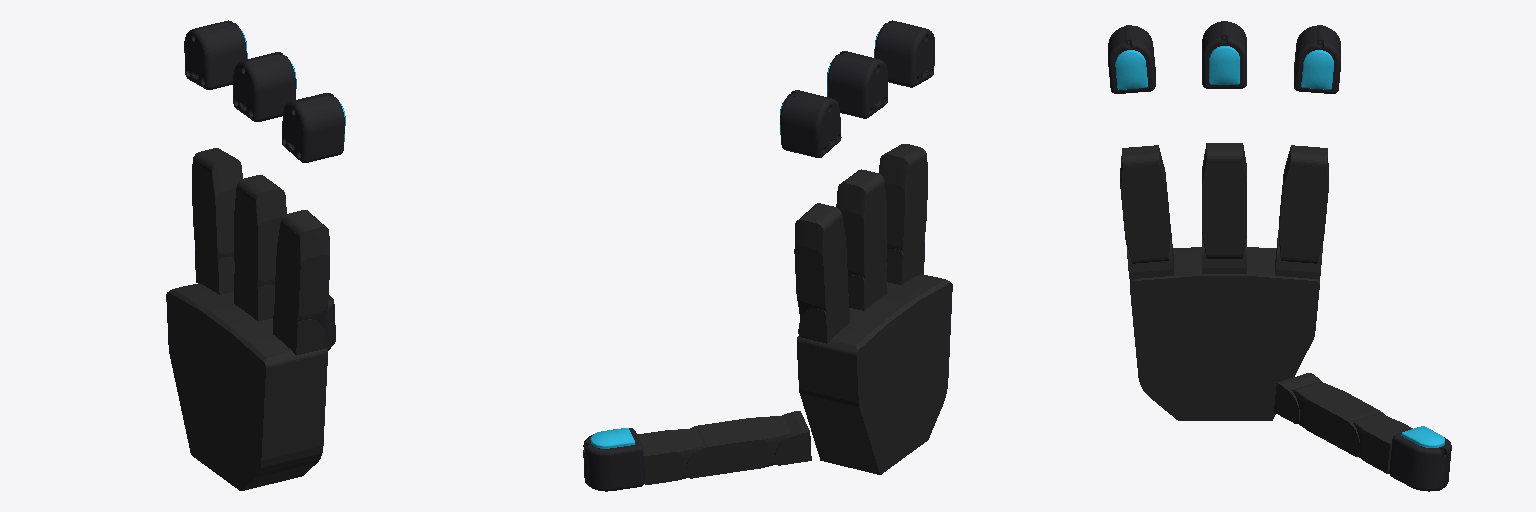
robot.urdf — allegro_right_digit_official_geometry:
<robot name="allegro_right_digit_official_geometry">







  <link name="base_link">
    <visual>
      <geometry>
        <mesh filename="meshes/allegro/base_link.obj" />
      </geometry>
      <origin rpy="0 0 0" xyz="0 0 0 " />
      <material name="black">
        <color rgba="0.2 0.2 0.2 1" />
      </material>
    </visual>
    <inertial>
      <origin xyz="0 0 0.0475" rpy="0 0 0" />
      <mass value="0.4154" />
      <inertia ixx="1e-4" ixy="0.0" ixz="0.0" iyy="1e-4" iyz="0.0" izz="1e-4" />
    </inertial>
  <collision><origin rpy="0 0 0" xyz="0 0 0 " />
      <geometry><mesh filename="collision_baselines/envelope_base_link.obj" /></geometry></collision></link>




  <link name="link_0.0">
    <visual>
      <geometry>
        <mesh filename="meshes/allegro/link_0.0.obj" />
      </geometry>
      <material name="black" />
    </visual>
    <inertial>
      <mass value="0.0119" />
      <origin xyz="0 0 0" rpy="0 0 0" />
      <inertia ixx="1.01666658333e-06" ixy="0.0" ixz="0.0" iyy="6.47677333333e-07" iyz="0.0" izz="1.01666658333e-06" />
    </inertial>
  <collision><geometry><mesh filename="collision_baselines/envelope_link_0.0.obj" /></geometry></collision></link>
  <joint name="joint_0.0" type="revolute">
    <axis xyz="0 0 1" />
    <limit effort="0.35" lower="-0.47" upper="0.47" velocity="6.283" />
    <parent link="base_link" />
    <child link="link_0.0" />
    <origin rpy="-0.08726646255 0 0" xyz="0 0.0435 -0.001542" />
  </joint>
  <link name="link_1.0">
    <visual>
      <geometry>
        <mesh filename="meshes/allegro/link_1.0.obj" />
      </geometry>
      <material name="black" />
    </visual>
    <inertial>
      <mass value="0.065" />
      <origin xyz="0 0 0" rpy="0 0 0" />
      <inertia ixx="7.95654166667e-05" ixy="1.7199e-05" ixz="8.75875e-06" iyy="2.47088833333e-05" iyz="2.413125e-05" izz="7.95654166667e-05" />
    </inertial>
  <collision><geometry><mesh filename="collision_baselines/envelope_link_1.0.obj" /></geometry></collision></link>
  <joint name="joint_1.0" type="revolute">
    <limit effort="0.35" lower="-0.196" upper="1.61" velocity="6.283" />
    <axis xyz="0 1 0" />
    <parent link="link_0.0" />
    <child link="link_1.0" />
    <origin xyz="0 0 0.0164" />
  </joint>
  <link name="link_2.0">
    <visual>
      <geometry>
        <mesh filename="meshes/allegro/link_2.0.obj" />
      </geometry>
      <material name="black" />
    </visual>
    <inertial>
      <mass value="0.0355" />
      <origin xyz="0 0 0" rpy="0 0 0" />
      <inertia ixx="2.63979183333e-05" ixy="6.67968e-06" ixz="4.783625e-06" iyy="1.34948516667e-05" iyz="9.372e-06" izz="2.63979183333e-05" />
    </inertial>
  <collision><geometry><mesh filename="collision_baselines/envelope_link_2.0.obj" /></geometry></collision></link>
  <joint name="joint_2.0" type="revolute">
    <axis xyz="0 1 0" />
    <limit effort="0.35" lower="-0.174" upper="1.709" velocity="6.283" />
    <parent link="link_1.0" />
    <child link="link_2.0" />
    <origin xyz="0 0 0.054" />
  </joint>
  <link name="link_3.0">
    <visual>
      <geometry>
        <mesh filename="meshes/allegro/link_3.0.obj" />
      </geometry>
      <material name="black" />
    </visual>
    <inertial>
      <mass value="0.0096" />
      <origin xyz="0 0 0" rpy="0 0 0" />
      <inertia ixx="4.701248e-06" ixy="1.255968e-06" ixz="1.2936e-06" iyy="3.649312e-06" iyz="1.7622e-06" izz="4.701248e-06" />
    </inertial>
  <collision><geometry><mesh filename="collision_baselines/envelope_link_3.0.obj" /></geometry></collision></link>
  <joint name="joint_3.0" type="revolute">
    <axis xyz="0 1 0" />
    <limit effort="0.35" lower="-0.227" upper="1.618" velocity="6.283" />
    <parent link="link_2.0" />
    <child link="link_3.0" />
    <origin xyz="0 0 0.0384" />
  </joint>
  <link name="link_4.0">
    <visual>
      <geometry>
        <mesh filename="meshes/allegro/link_0.0.obj" />
      </geometry>
      <material name="black" />
    </visual>
    <inertial>
      <mass value="0.0119" />
      <origin xyz="0 0 0" rpy="0 0 0" />
      <inertia ixx="1.01666658333e-06" ixy="0.0" ixz="0.0" iyy="6.47677333333e-07" iyz="0.0" izz="1.01666658333e-06" />
    </inertial>
  <collision><geometry><mesh filename="collision_baselines/envelope_link_4.0.obj" /></geometry></collision></link>
  <joint name="joint_4.0" type="revolute">
    <axis xyz="0 0 1" />
    <limit effort="0.35" lower="-0.47" upper="0.47" velocity="6.283" />
    <parent link="base_link" />
    <child link="link_4.0" />
    <origin rpy="0.0 0 0" xyz="0 0 0.0007" />
  </joint>
  <link name="link_5.0">
    <visual>
      <geometry>
        <mesh filename="meshes/allegro/link_1.0.obj" />
      </geometry>
      <material name="black" />
    </visual>
    <inertial>
      <mass value="0.065" />
      <origin xyz="0 0 0" rpy="0 0 0" />
      <inertia ixx="7.95654166667e-05" ixy="1.7199e-05" ixz="8.75875e-06" iyy="2.47088833333e-05" iyz="2.413125e-05" izz="7.95654166667e-05" />
    </inertial>
  <collision><geometry><mesh filename="collision_baselines/envelope_link_5.0.obj" /></geometry></collision></link>
  <joint name="joint_5.0" type="revolute">
    <limit effort="0.35" lower="-0.196" upper="1.61" velocity="6.283" />
    <axis xyz="0 1 0" />
    <parent link="link_4.0" />
    <child link="link_5.0" />
    <origin xyz="0 0 0.0164" />
  </joint>
  <link name="link_6.0">
    <visual>
      <geometry>
        <mesh filename="meshes/allegro/link_2.0.obj" />
      </geometry>
      <material name="black" />
    </visual>
    <inertial>
      <mass value="0.0355" />
      <origin xyz="0 0 0" rpy="0 0 0" />
      <inertia ixx="2.63979183333e-05" ixy="6.67968e-06" ixz="4.783625e-06" iyy="1.34948516667e-05" iyz="9.372e-06" izz="2.63979183333e-05" />
    </inertial>
  <collision><geometry><mesh filename="collision_baselines/envelope_link_6.0.obj" /></geometry></collision></link>
  <joint name="joint_6.0" type="revolute">
    <axis xyz="0 1 0" />
    <limit effort="0.35" lower="-0.174" upper="1.709" velocity="6.283" />
    <parent link="link_5.0" />
    <child link="link_6.0" />
    <origin xyz="0 0 0.054" />
  </joint>
  <link name="link_7.0">
    <visual>
      <geometry>
        <mesh filename="meshes/allegro/link_3.0.obj" />
      </geometry>
      <material name="black" />
    </visual>
    <inertial>
      <mass value="0.0096" />
      <origin xyz="0 0 0" rpy="0 0 0" />
      <inertia ixx="4.701248e-06" ixy="1.255968e-06" ixz="1.2936e-06" iyy="3.649312e-06" iyz="1.7622e-06" izz="4.701248e-06" />
    </inertial>
  <collision><geometry><mesh filename="collision_baselines/envelope_link_7.0.obj" /></geometry></collision></link>
  <joint name="joint_7.0" type="revolute">
    <axis xyz="0 1 0" />
    <limit effort="0.35" lower="-0.227" upper="1.618" velocity="6.283" />
    <parent link="link_6.0" />
    <child link="link_7.0" />
    <origin xyz="0 0 0.0384" />
  </joint>
  <link name="link_8.0">
    <visual>
      <geometry>
        <mesh filename="meshes/allegro/link_0.0.obj" />
      </geometry>
      <material name="black" />
    </visual>
    <inertial>
      <mass value="0.0119" />
      <origin xyz="0 0 0" rpy="0 0 0" />
      <inertia ixx="1.01666658333e-06" ixy="0.0" ixz="0.0" iyy="6.47677333333e-07" iyz="0.0" izz="1.01666658333e-06" />
    </inertial>
  <collision><geometry><mesh filename="collision_baselines/envelope_link_8.0.obj" /></geometry></collision></link>
  <joint name="joint_8.0" type="revolute">
    <axis xyz="0 0 1" />
    <limit effort="0.35" lower="-0.47" upper="0.47" velocity="6.283" />
    <parent link="base_link" />
    <child link="link_8.0" />
    <origin rpy="0.08726646255 0 0" xyz="0 -0.0435 -0.001542" />
  </joint>
  <link name="link_9.0">
    <visual>
      <geometry>
        <mesh filename="meshes/allegro/link_1.0.obj" />
      </geometry>
      <material name="black" />
    </visual>
    <inertial>
      <mass value="0.065" />
      <origin xyz="0 0 0" rpy="0 0 0" />
      <inertia ixx="7.95654166667e-05" ixy="1.7199e-05" ixz="8.75875e-06" iyy="2.47088833333e-05" iyz="2.413125e-05" izz="7.95654166667e-05" />
    </inertial>
  <collision><geometry><mesh filename="collision_baselines/envelope_link_9.0.obj" /></geometry></collision></link>
  <joint name="joint_9.0" type="revolute">
    <limit effort="0.35" lower="-0.196" upper="1.61" velocity="6.283" />
    <axis xyz="0 1 0" />
    <parent link="link_8.0" />
    <child link="link_9.0" />
    <origin xyz="0 0 0.0164" />
  </joint>
  <link name="link_10.0">
    <visual>
      <geometry>
        <mesh filename="meshes/allegro/link_2.0.obj" />
      </geometry>
      <material name="black" />
    </visual>
    <inertial>
      <mass value="0.0355" />
      <origin xyz="0 0 0" rpy="0 0 0" />
      <inertia ixx="2.63979183333e-05" ixy="6.67968e-06" ixz="4.783625e-06" iyy="1.34948516667e-05" iyz="9.372e-06" izz="2.63979183333e-05" />
    </inertial>
  <collision><geometry><mesh filename="collision_baselines/envelope_link_10.0.obj" /></geometry></collision></link>
  <joint name="joint_10.0" type="revolute">
    <axis xyz="0 1 0" />
    <limit effort="0.35" lower="-0.174" upper="1.709" velocity="6.283" />
    <parent link="link_9.0" />
    <child link="link_10.0" />
    <origin xyz="0 0 0.054" />
  </joint>
  <link name="link_11.0">
    <visual>
      <geometry>
        <mesh filename="meshes/allegro/link_3.0.obj" />
      </geometry>
      <material name="black" />
    </visual>
    <inertial>
      <mass value="0.0096" />
      <origin xyz="0 0 0" rpy="0 0 0" />
      <inertia ixx="4.701248e-06" ixy="1.255968e-06" ixz="1.2936e-06" iyy="3.649312e-06" iyz="1.7622e-06" izz="4.701248e-06" />
    </inertial>
  <collision><geometry><mesh filename="collision_baselines/envelope_link_11.0.obj" /></geometry></collision></link>
  <joint name="joint_11.0" type="revolute">
    <axis xyz="0 1 0" />
    <limit effort="0.35" lower="-0.227" upper="1.618" velocity="6.283" />
    <parent link="link_10.0" />
    <child link="link_11.0" />
    <origin xyz="0 0 0.0384" />
  </joint>
  <link name="link_12.0">
    <visual>
      <geometry>
        <mesh filename="meshes/allegro/link_12.0_right.obj" />
      </geometry>
      <material name="black">
        <color rgba=".2 .2 .2 1" />
      </material>
      <origin rpy="3.1415926518 0 0" xyz="0 0 0" />
    </visual>
    <inertial>
      <mass value="0.0176" />
      <origin xyz="0 0 0" rpy="0 0 0" />
      <inertia ixx="1.89273333333e-5" ixy="7.16716e-06" ixz="5.35568e-06" iyy="1.43008213333e-05" iyz="6.8068e-06" izz="1.89273333333e-05" />
    </inertial>
  <collision><origin rpy="3.1415926518 0 0" xyz="0 0 0" />
    <geometry><mesh filename="collision_baselines/envelope_link_12.0.obj" /></geometry></collision></link>
  <joint name="joint_12.0" type="revolute">
    <axis xyz="-1 0 0" />
    <limit effort="0.35" lower="0.263" upper="1.396" velocity="6.283" />
    <parent link="base_link" />
    <child link="link_12.0" />
    <origin rpy="0 -1.65806278845 -1.5707963259" xyz="-0.0182 0.019333 -0.045987" />
  </joint>
  <link name="link_13.0">
    <visual>
      <geometry>
        <mesh filename="meshes/allegro/link_13.0.obj" />
      </geometry>
      <material name="black">
        <color rgba=".2 .2 .2 1" />
      </material>
    </visual>
    <inertial>
      <mass value="0.0119" />
      <origin xyz="0 0 0" rpy="0 0 0" />
      <inertia ixx="4.24250866667e-06" ixy="1.032087e-06" ixz="1.603525e-06" iyy="4.52362633333e-06" iyz="1.44808125e-06" izz="4.24250866667e-06" />
    </inertial>
  <collision><geometry><mesh filename="collision_baselines/envelope_link_13.0.obj" /></geometry></collision></link>
  <joint name="joint_13.0" type="revolute">
    <axis xyz="0 0 1" />
    <limit effort="0.35" lower="-0.105" upper="1.163" velocity="6.283" />
    <parent link="link_12.0" />
    <child link="link_13.0" />

    <origin xyz="-0.027 0.005 0.0399" />


  </joint>
  <link name="link_14.0">
    <visual>
      <geometry>
        <mesh filename="meshes/allegro/link_14.0.obj" />
      </geometry>
      <material name="black">
      </material>
    </visual>
    <inertial>
      <mass value="0.038" />
      <origin xyz="0 0 0" rpy="0 0 0" />
      <inertia ixx="4.30439933333e-05" ixy="9.57068e-06" ixz="5.1205e-06" iyy="1.44451933333e-05" iyz="1.342825e-05" izz="4.30439933333e-05" />
    </inertial>
  <collision><geometry><mesh filename="collision_baselines/envelope_link_14.0.obj" /></geometry></collision></link>
  <joint name="joint_14.0" type="revolute">
    <axis xyz="0 1 0" />
    <limit effort="0.35" lower="-0.189" upper="1.644" velocity="6.283" />
    <parent link="link_13.0" />
    <child link="link_14.0" />
    <origin xyz="0 0 0.0177" />
  </joint>
  <link name="link_15.0">
    <visual>
      <geometry>
        <mesh filename="meshes/allegro/link_15.0.obj" />
      </geometry>
      <material name="black">
      </material>
    </visual>
    <inertial>
      <mass value="0.0388" />
      <origin xyz="0 0 0" rpy="0 0 0" />
      <inertia ixx="3.29223173333e-05" ixy="8.042076e-06" ixz="5.2283e-06" iyy="1.47493026667e-5" iyz="1.1283525e-5" izz="3.29223173333e-05" />
    </inertial>
  <collision><geometry><mesh filename="collision_baselines/envelope_link_15.0.obj" /></geometry></collision></link>
  <joint name="joint_15.0" type="revolute">
    <axis xyz="0 1 0" />
    <limit effort="0.35" lower="-0.162" upper="1.719" velocity="6.283" />
    <parent link="link_14.0" />
    <child link="link_15.0" />
    <origin xyz="0 0 0.0514" />
  </joint>
  <link name="digit_index_housing"><inertial><origin xyz="0.00218801311136 1.78240362917e-05 0.0160993331698" rpy="0 0 0" /><mass value="0.0189078298898" /><inertia ixx="2.53973927545e-06" iyy="2.7122177686e-06" izz="2.20243115762e-06" ixy="6.49514917651e-12" ixz="-3.29040029283e-09" iyz="-4.84317291144e-12" /></inertial><visual><origin xyz="-0 -0 -0" rpy="0 0 0" /><geometry><mesh filename="official_digit/visual/digit_housing.obj" /></geometry><material name="digit_surface"><color rgba="0.18 0.18 0.20 1" /></material></visual><collision><origin xyz="-0 -0 -0" rpy="0 0 0" /><geometry><mesh filename="official_digit/collision/digit_housing_000.obj" /></geometry></collision></link><link name="digit_index_gel"><inertial><origin xyz="-0.00246047714445 0.000240627763833 0.000401999033733" rpy="0 0 0" /><mass value="0.00109217011023" /><inertia ixx="6.92086493152e-08" iyy="4.59226195084e-08" izz="2.54413562975e-08" ixy="6.75706143118e-14" ixz="-1.20485652413e-10" iyz="-1.10698831136e-12" /></inertial><visual><origin xyz="-0.02013599 0.00023865 -0.01604481" rpy="0 0 0" /><geometry><mesh filename="official_digit/visual/digit_gel.obj" /></geometry><material name="digit_surface"><color rgba="0.2 0.75 0.9 1" /></material></visual><collision><origin xyz="-0.02013599 0.00023865 -0.01604481" rpy="0 0 0" /><geometry><mesh filename="official_digit/collision/digit_gel_000.obj" /></geometry></collision></link><joint name="digit_index_housing_mount" type="fixed"><parent link="link_3.0" /><child link="digit_index_housing" /><origin rpy="0 0 0" xyz="0 0 0.0147" />
  </joint><joint name="digit_index_gel_mount" type="fixed"><parent link="digit_index_housing" /><child link="digit_index_gel" /><origin xyz="0.02013599 -0.00023865 0.01604481" rpy="0 0 0" /></joint><link name="digit_middle_housing"><inertial><origin xyz="0.00218801311136 1.78240362917e-05 0.0160993331698" rpy="0 0 0" /><mass value="0.0189078298898" /><inertia ixx="2.53973927545e-06" iyy="2.7122177686e-06" izz="2.20243115762e-06" ixy="6.49514917651e-12" ixz="-3.29040029283e-09" iyz="-4.84317291144e-12" /></inertial><visual><origin xyz="-0 -0 -0" rpy="0 0 0" /><geometry><mesh filename="official_digit/visual/digit_housing.obj" /></geometry><material name="digit_surface"><color rgba="0.18 0.18 0.20 1" /></material></visual><collision><origin xyz="-0 -0 -0" rpy="0 0 0" /><geometry><mesh filename="official_digit/collision/digit_housing_000.obj" /></geometry></collision></link><link name="digit_middle_gel"><inertial><origin xyz="-0.00246047714445 0.000240627763833 0.000401999033733" rpy="0 0 0" /><mass value="0.00109217011023" /><inertia ixx="6.92086493152e-08" iyy="4.59226195084e-08" izz="2.54413562975e-08" ixy="6.75706143118e-14" ixz="-1.20485652413e-10" iyz="-1.10698831136e-12" /></inertial><visual><origin xyz="-0.02013599 0.00023865 -0.01604481" rpy="0 0 0" /><geometry><mesh filename="official_digit/visual/digit_gel.obj" /></geometry><material name="digit_surface"><color rgba="0.2 0.75 0.9 1" /></material></visual><collision><origin xyz="-0.02013599 0.00023865 -0.01604481" rpy="0 0 0" /><geometry><mesh filename="official_digit/collision/digit_gel_000.obj" /></geometry></collision></link><joint name="digit_middle_housing_mount" type="fixed"><parent link="link_7.0" /><child link="digit_middle_housing" /><origin rpy="0 0 0" xyz="0 0 0.0147" />
  </joint><joint name="digit_middle_gel_mount" type="fixed"><parent link="digit_middle_housing" /><child link="digit_middle_gel" /><origin xyz="0.02013599 -0.00023865 0.01604481" rpy="0 0 0" /></joint><link name="digit_ring_housing"><inertial><origin xyz="0.00218801311136 1.78240362917e-05 0.0160993331698" rpy="0 0 0" /><mass value="0.0189078298898" /><inertia ixx="2.53973927545e-06" iyy="2.7122177686e-06" izz="2.20243115762e-06" ixy="6.49514917651e-12" ixz="-3.29040029283e-09" iyz="-4.84317291144e-12" /></inertial><visual><origin xyz="-0 -0 -0" rpy="0 0 0" /><geometry><mesh filename="official_digit/visual/digit_housing.obj" /></geometry><material name="digit_surface"><color rgba="0.18 0.18 0.20 1" /></material></visual><collision><origin xyz="-0 -0 -0" rpy="0 0 0" /><geometry><mesh filename="official_digit/collision/digit_housing_000.obj" /></geometry></collision></link><link name="digit_ring_gel"><inertial><origin xyz="-0.00246047714445 0.000240627763833 0.000401999033733" rpy="0 0 0" /><mass value="0.00109217011023" /><inertia ixx="6.92086493152e-08" iyy="4.59226195084e-08" izz="2.54413562975e-08" ixy="6.75706143118e-14" ixz="-1.20485652413e-10" iyz="-1.10698831136e-12" /></inertial><visual><origin xyz="-0.02013599 0.00023865 -0.01604481" rpy="0 0 0" /><geometry><mesh filename="official_digit/visual/digit_gel.obj" /></geometry><material name="digit_surface"><color rgba="0.2 0.75 0.9 1" /></material></visual><collision><origin xyz="-0.02013599 0.00023865 -0.01604481" rpy="0 0 0" /><geometry><mesh filename="official_digit/collision/digit_gel_000.obj" /></geometry></collision></link><joint name="digit_ring_housing_mount" type="fixed"><parent link="link_11.0" /><child link="digit_ring_housing" /><origin rpy="0 0 0" xyz="0 0 0.0147" />
  </joint><joint name="digit_ring_gel_mount" type="fixed"><parent link="digit_ring_housing" /><child link="digit_ring_gel" /><origin xyz="0.02013599 -0.00023865 0.01604481" rpy="0 0 0" /></joint><link name="digit_thumb_housing"><inertial><origin xyz="0.00218801311136 1.78240362917e-05 0.0160993331698" rpy="0 0 0" /><mass value="0.0189078298898" /><inertia ixx="2.53973927545e-06" iyy="2.7122177686e-06" izz="2.20243115762e-06" ixy="6.49514917651e-12" ixz="-3.29040029283e-09" iyz="-4.84317291144e-12" /></inertial><visual><origin xyz="-0 -0 -0" rpy="0 0 0" /><geometry><mesh filename="official_digit/visual/digit_housing.obj" /></geometry><material name="digit_surface"><color rgba="0.18 0.18 0.20 1" /></material></visual><collision><origin xyz="-0 -0 -0" rpy="0 0 0" /><geometry><mesh filename="official_digit/collision/digit_housing_000.obj" /></geometry></collision></link><link name="digit_thumb_gel"><inertial><origin xyz="-0.00246047714445 0.000240627763833 0.000401999033733" rpy="0 0 0" /><mass value="0.00109217011023" /><inertia ixx="6.92086493152e-08" iyy="4.59226195084e-08" izz="2.54413562975e-08" ixy="6.75706143118e-14" ixz="-1.20485652413e-10" iyz="-1.10698831136e-12" /></inertial><visual><origin xyz="-0.02013599 0.00023865 -0.01604481" rpy="0 0 0" /><geometry><mesh filename="official_digit/visual/digit_gel.obj" /></geometry><material name="digit_surface"><color rgba="0.2 0.75 0.9 1" /></material></visual><collision><origin xyz="-0.02013599 0.00023865 -0.01604481" rpy="0 0 0" /><geometry><mesh filename="official_digit/collision/digit_gel_000.obj" /></geometry></collision></link><joint name="digit_thumb_housing_mount" type="fixed"><parent link="link_15.0" /><child link="digit_thumb_housing" /><origin rpy="0 0 0" xyz="0 0 0.0303" />

  </joint><joint name="digit_thumb_gel_mount" type="fixed"><parent link="digit_thumb_housing" /><child link="digit_thumb_gel" /><origin xyz="0.02013599 -0.00023865 0.01604481" rpy="0 0 0" /></joint></robot>

--- Render facts (derived) ---
Views: 3 orthographic renders of the robot side by side, from view 1: azimuth 30°, elevation 25°; view 2: azimuth 150°, elevation 25°; view 3: azimuth 270°, elevation 25°.
Robot: allegro_right_digit_official_geometry — 25 links, 24 joints (16 revolute, 8 fixed); root link base_link; default pose: all joints at 0 but 1 set to mid-range because 0 is outside their limits (joint_12.0 = 0.8295).
Visible links, largest first — view 1: base_link, link_9.0, link_1.0, link_5.0, digit_ring_housing, digit_middle_housing, digit_index_housing, link_8.0, link_4.0, link_0.0; view 2: base_link, link_1.0, link_14.0, link_5.0, link_9.0, digit_index_housing, digit_middle_housing, digit_ring_housing, digit_thumb_housing, link_15.0, link_13.0, link_0.0 (+3 smaller); view 3: base_link, link_9.0, link_1.0, link_5.0, link_14.0, digit_thumb_housing, link_15.0, digit_ring_housing, digit_index_housing, digit_middle_housing, link_13.0, digit_middle_gel (+6 smaller).
Boxes of the visible links, x1,y1,x2,y2 form: base_link: [166, 283, 327, 490]; link_9.0: [275, 210, 329, 327]; link_1.0: [192, 148, 242, 272]; link_5.0: [234, 175, 286, 295]; digit_ring_housing: [282, 93, 344, 162]; digit_middle_housing: [233, 52, 295, 121]; digit_index_housing: [184, 20, 246, 89]; link_8.0: [273, 304, 325, 355]; link_4.0: [234, 273, 274, 320]; link_0.0: [195, 248, 234, 294]; base_link: [797, 274, 952, 474]; link_1.0: [794, 203, 847, 322]; link_14.0: [686, 416, 790, 478]; link_5.0: [836, 169, 886, 280]; link_9.0: [879, 144, 927, 264]; digit_index_housing: [780, 90, 841, 157]; digit_middle_housing: [828, 51, 887, 118]; digit_ring_housing: [875, 20, 934, 87]; digit_thumb_housing: [583, 428, 644, 491]; link_15.0: [637, 428, 702, 484]; link_13.0: [775, 411, 811, 465]; link_0.0: [798, 294, 849, 343]; base_link: [1130, 247, 1319, 420]; link_9.0: [1120, 145, 1170, 263]; link_1.0: [1279, 145, 1328, 263]; link_5.0: [1202, 143, 1246, 258]; link_14.0: [1292, 382, 1385, 456]; digit_thumb_housing: [1389, 433, 1451, 491]; link_15.0: [1352, 413, 1412, 473]; digit_ring_housing: [1108, 25, 1155, 93]; digit_index_housing: [1294, 25, 1340, 93]; digit_middle_housing: [1202, 21, 1246, 88]; link_13.0: [1274, 373, 1321, 423]; digit_middle_gel: [1209, 46, 1239, 84].
Size in the robot's own frame: 0.1461 by 0.205 by 0.2538 metres.
18 mesh visuals loaded from 11 distinct referenced files (8 OBJ); not drawn: 7 (reference not matched to a file when rendering).
